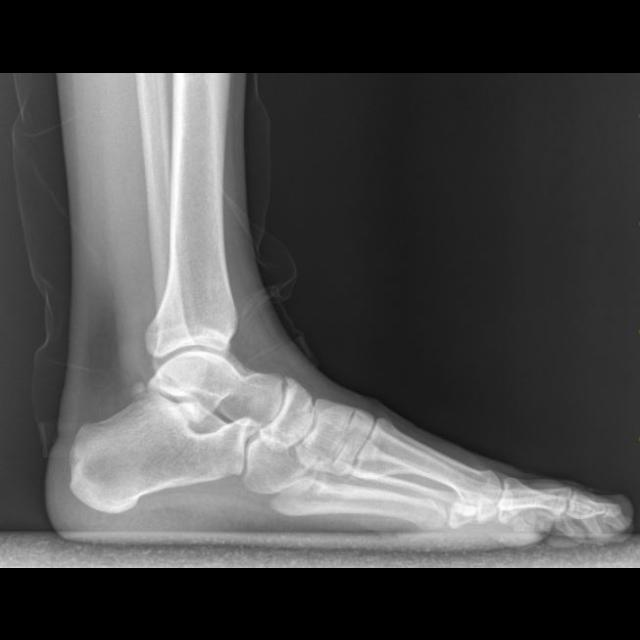a: (69, 391, 263, 514)
b: (262, 378, 313, 452)
c: (350, 418, 502, 506)
